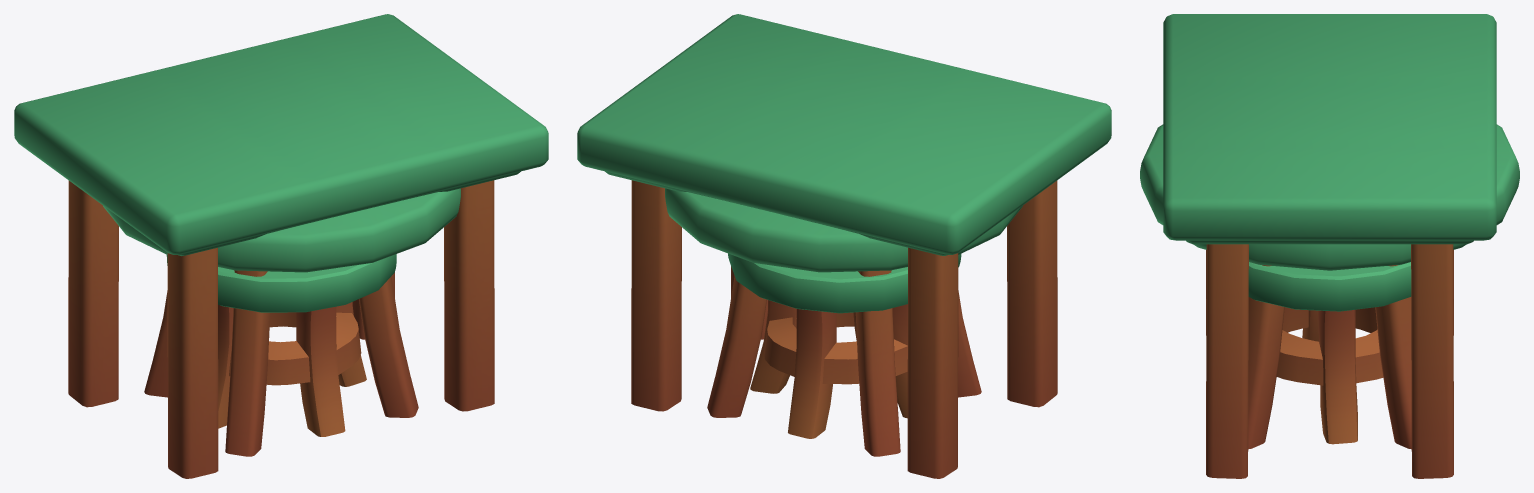
The model's file is Green_C_D.fbx.
3 renders of one model, left to right at view 1: azimuth 30°, elevation 25°; view 2: azimuth 150°, elevation 25°; view 3: azimuth 270°, elevation 25°, orthographic. The views are drawn at different scales.
Visible parts, largest first — view 1: Green_BigDesk, Green_Desk, Green_Chair; view 2: Green_BigDesk, Green_Desk, Green_Chair; view 3: Green_BigDesk, Green_Chair, Green_Desk.
Part boxes in pixels (bbox=[...]): Green_BigDesk: bbox=[14, 14, 548, 478]; Green_Desk: bbox=[103, 188, 460, 456]; Green_Chair: bbox=[166, 254, 396, 436]; Green_BigDesk: bbox=[577, 14, 1111, 478]; Green_Desk: bbox=[665, 188, 1022, 456]; Green_Chair: bbox=[728, 253, 961, 438]; Green_BigDesk: bbox=[1163, 14, 1496, 478]; Green_Chair: bbox=[1248, 262, 1411, 444]; Green_Desk: bbox=[1140, 124, 1519, 449].
Bounding box in the file's own units: 145 × 104 × 121.
